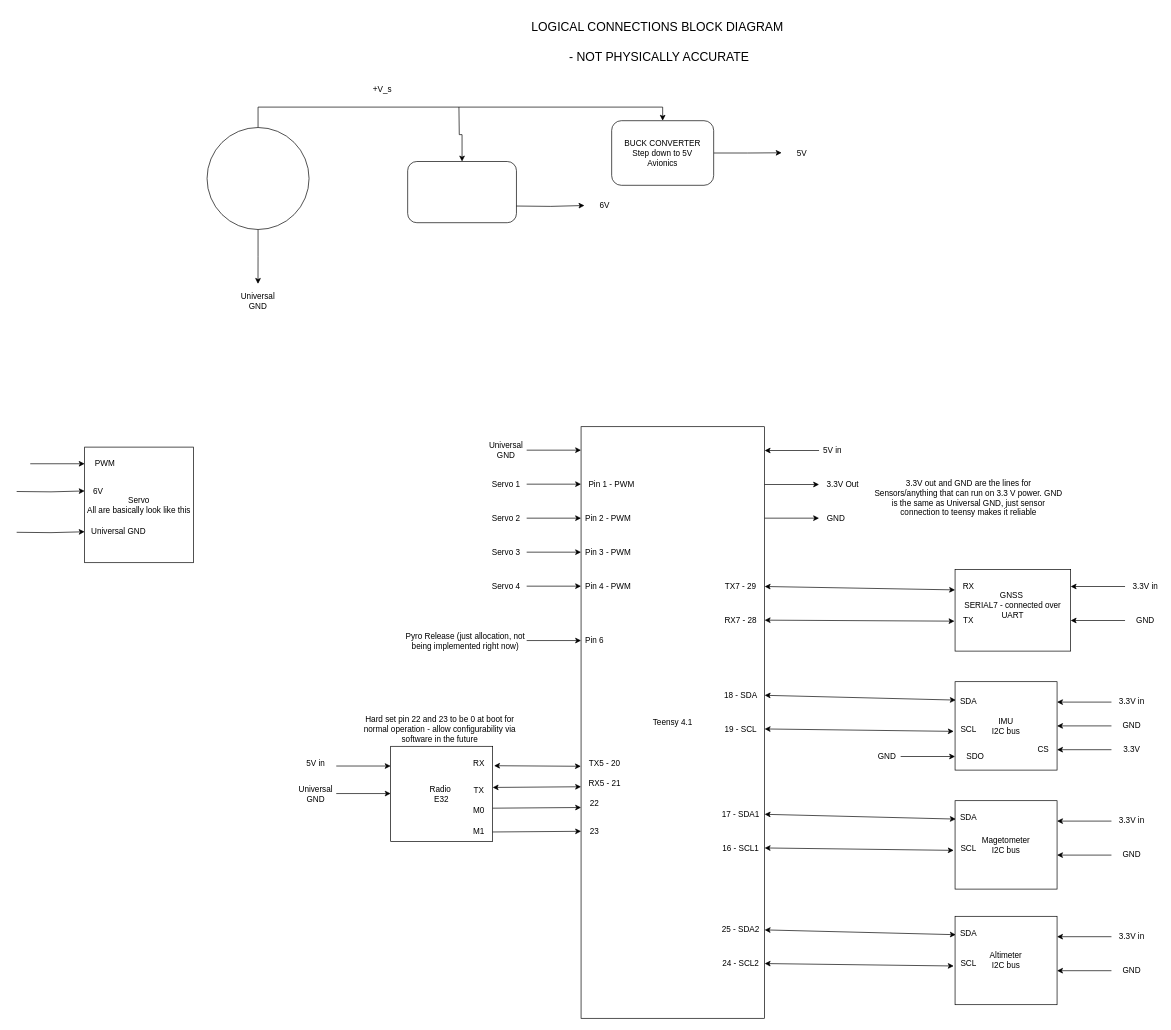
This 1171x1030 diagram has some shape labels left out. The shapes that lost their labels are listed below. From the top down, each one's centre as x and y in pixels, then its label:
point (257, 178): 6 to 8.4 V source
point (461, 192): BUCK CONVERTER Step down to 6V Servos
